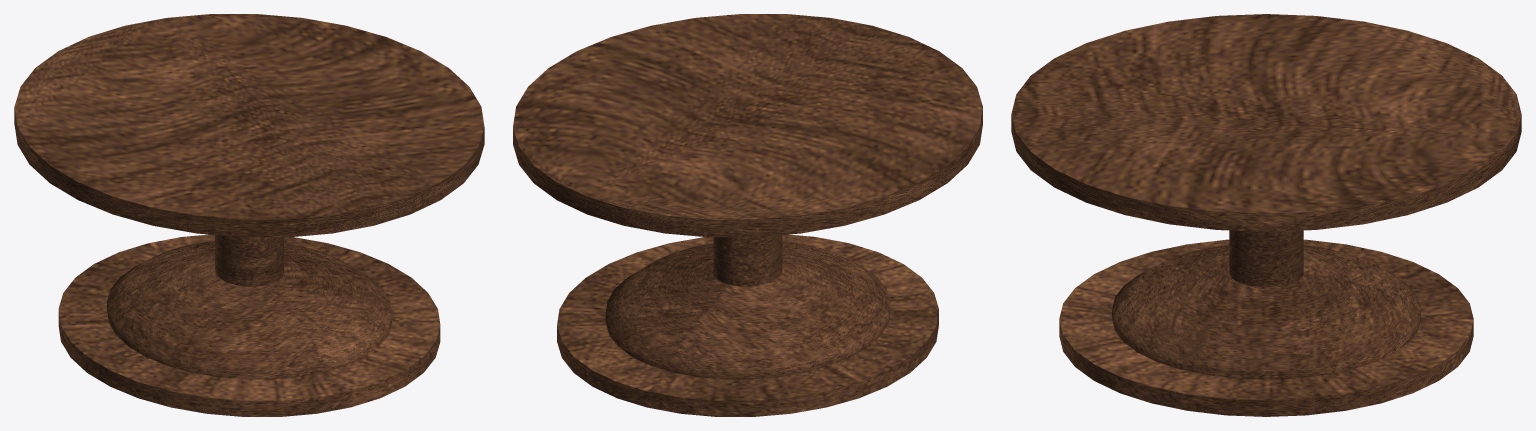
File: table2 (1).fbx
The picture shows the model from 3 angles, left to right: view 1: azimuth 30°, elevation 25°; view 2: azimuth 150°, elevation 25°; view 3: azimuth 270°, elevation 25°; orthographic projection. The views are drawn at different scales.
Parts seen in each view (by area): view 1: Cylinder.003; view 2: Cylinder.003; view 3: Cylinder.003.
Part boxes in pixels (<box>): Cylinder.003: <box>14,14,484,416</box>; Cylinder.003: <box>513,14,982,416</box>; Cylinder.003: <box>1011,14,1521,416</box>.
Bounding box in the file's own units: 90.85 × 47.15 × 98.14.
1 material, 1 textured.
